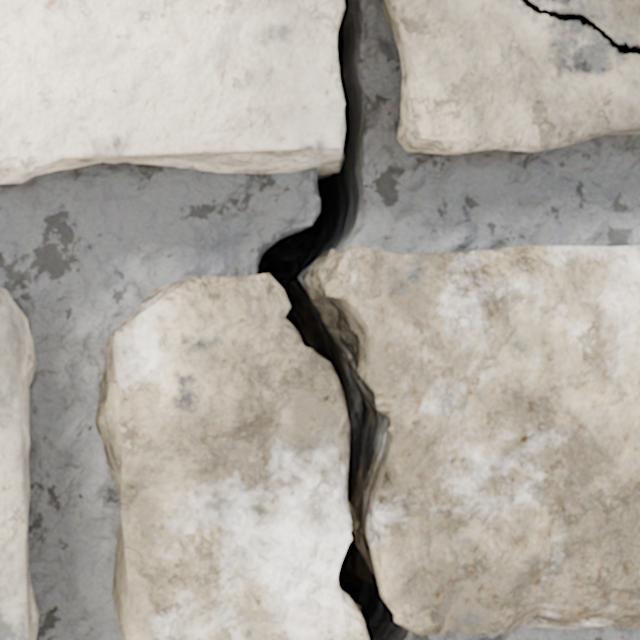broken_brick: (319, 245, 639, 635), (95, 273, 363, 639)
crack: (0, 0, 420, 639), (381, 0, 639, 154), (0, 288, 38, 639), (129, 381, 132, 454), (135, 551, 138, 599), (468, 623, 483, 624), (454, 624, 465, 625)
